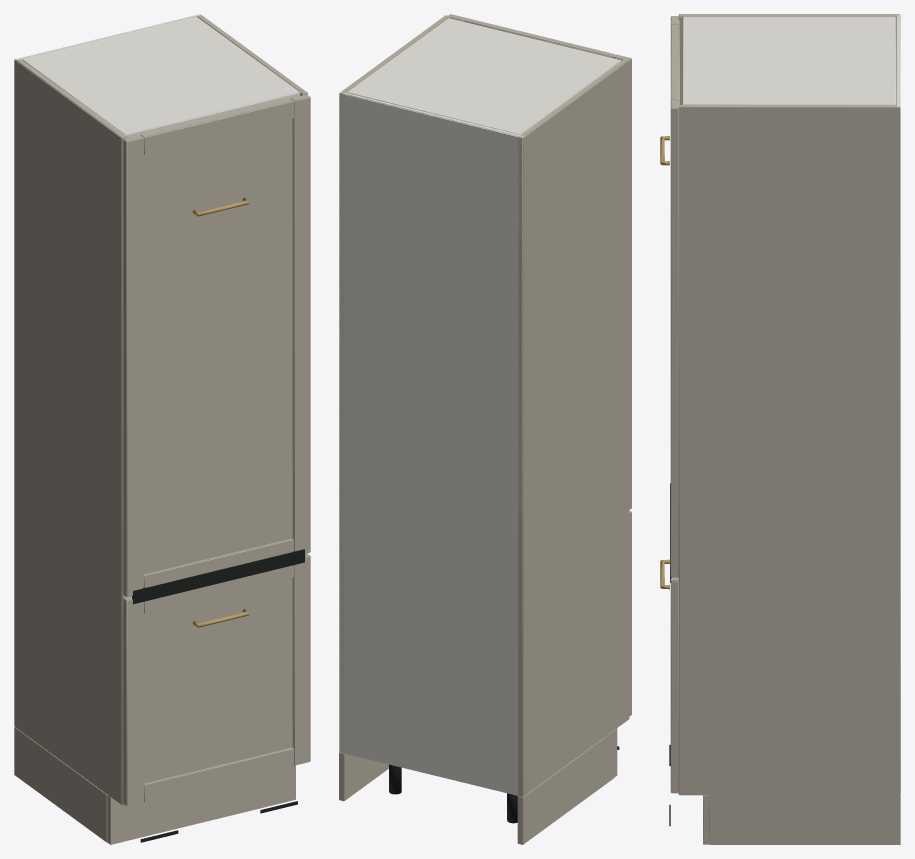
The model's file is shared.integrated_fridge.gltf.
3 renders of one model, left to right at view 1: azimuth 30°, elevation 25°; view 2: azimuth 150°, elevation 25°; view 3: azimuth 270°, elevation 25°, orthographic. The views are drawn at different scales.
Visible parts, largest first — view 1: shared.integrated_fridge.back; view 2: shared.integrated_fridge.back; view 3: shared.integrated_fridge.back.
Boxes of the visible parts, <box> form: shared.integrated_fridge.back: <box>14,14,310,844</box>; shared.integrated_fridge.back: <box>339,14,631,844</box>; shared.integrated_fridge.back: <box>660,14,900,844</box>.
Size of the model in its own units: 0.599 by 2.2 by 0.649.
